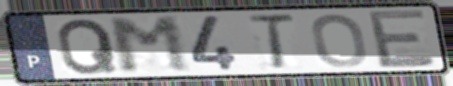4: (187, 13, 244, 73)
E: (364, 7, 439, 71)
M: (104, 14, 195, 76)
O: (308, 12, 370, 69)
Q: (55, 16, 121, 77)
T: (244, 12, 299, 72)
